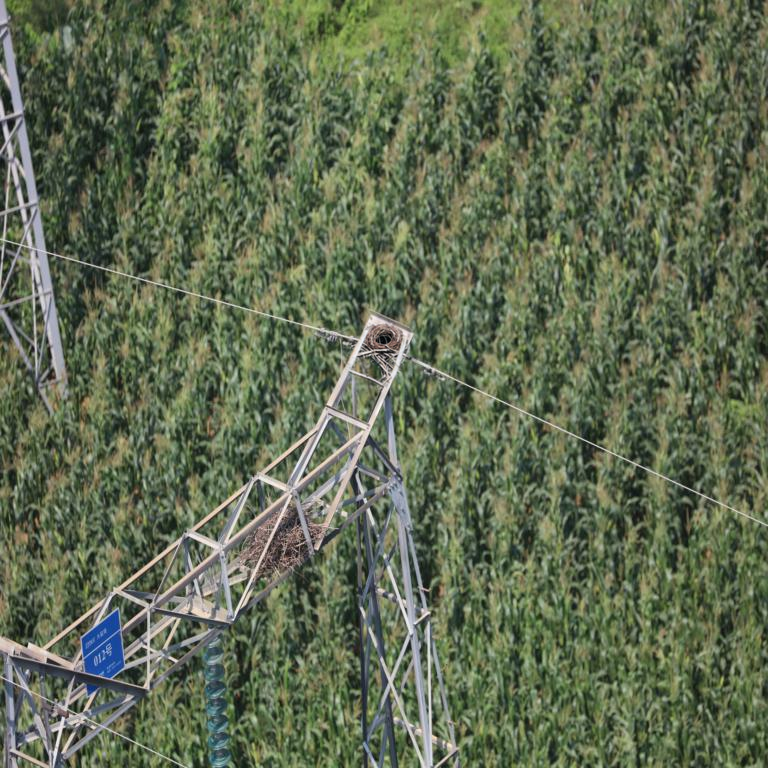nest: (245, 503, 309, 575), (364, 325, 400, 365)
